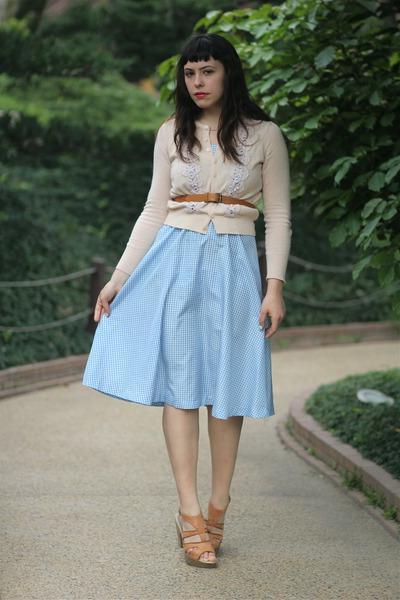dress: (81, 142, 275, 422)
sweater: (107, 111, 296, 283)
